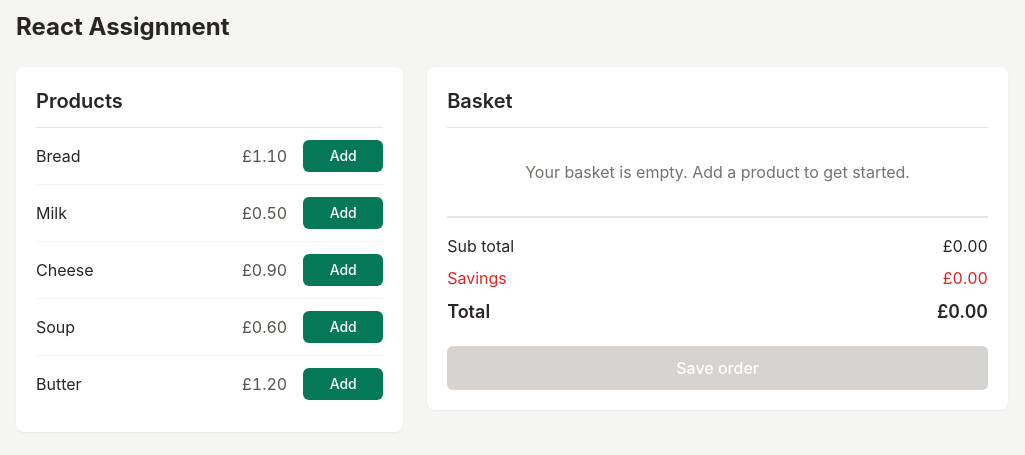
Test case: App › adds a product to the basket on click
Click the button with aria-label "add bread". click: [343, 156]
box: x1=303 y1=140 x2=383 y2=172
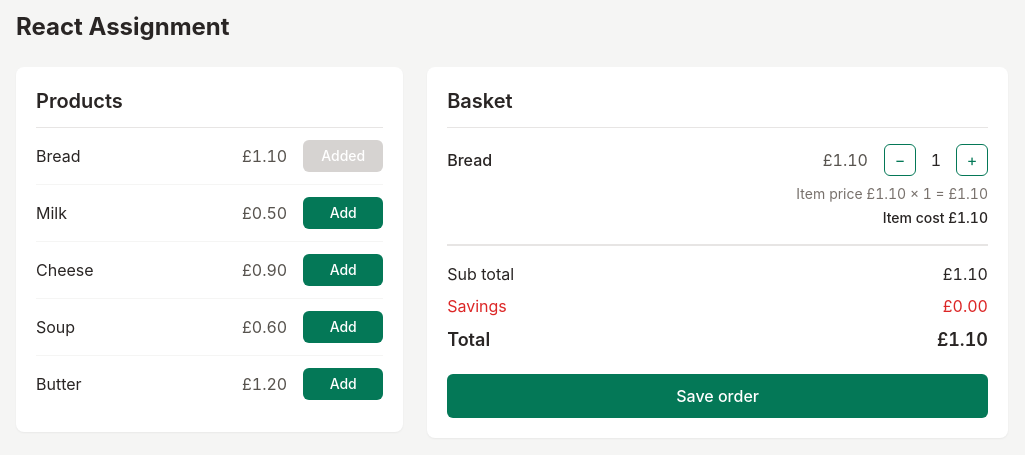
expect the button with aria-label "add bread" is disabled: met, box x1=303 y1=140 x2=383 y2=172
expect the button with aria-label "add bread" reads "Added": met, box x1=303 y1=140 x2=383 y2=172
expect the text with test id "qty-bread" reads "1": met, box x1=931 y1=150 x2=941 y2=170
